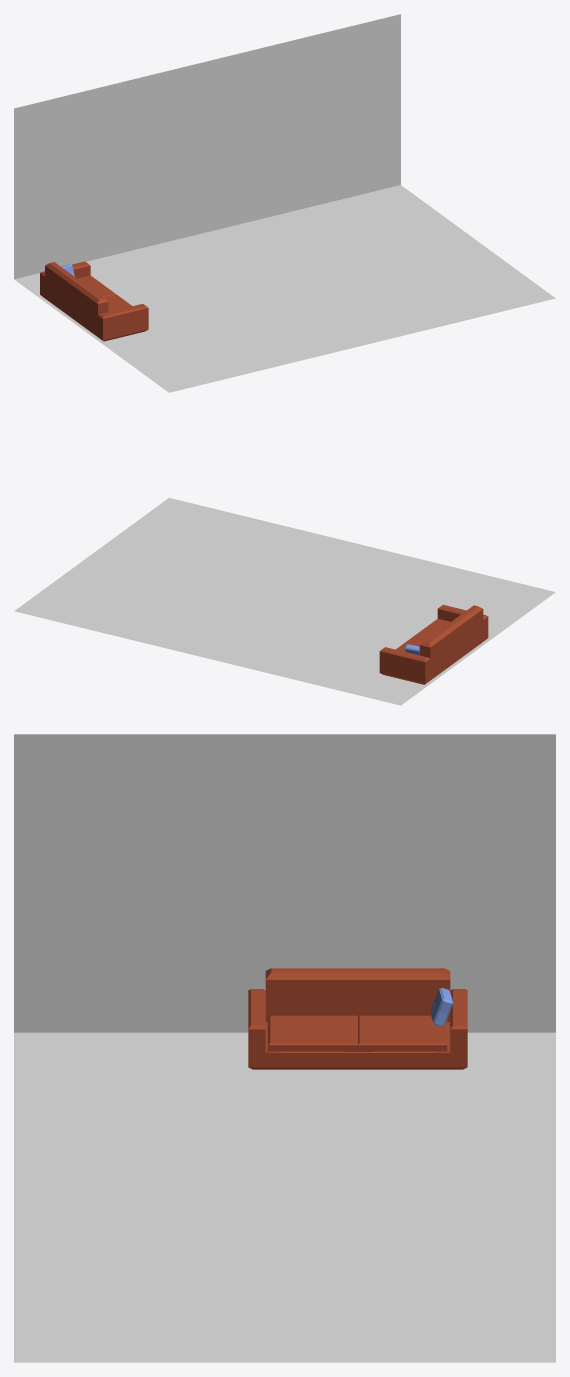
3 renders of one model, top to bottom at view 1: azimuth 30°, elevation 25°; view 2: azimuth 150°, elevation 25°; view 3: azimuth 270°, elevation 25°, orthographic. The views are drawn at different scales.
Parts seen in each view (by area): view 1: Floor, Cube; view 2: Floor, Cube; view 3: Floor, Cube.
Part boxes in pixels (x1,y1,x2,y2): Floor: (14, 14, 555, 392); Cube: (40, 261, 148, 341); Floor: (14, 498, 555, 705); Cube: (379, 604, 488, 684); Floor: (14, 734, 555, 1362); Cube: (248, 968, 467, 1069).
Size of the model in its own units: 16.93 by 7.14 by 11.75.
